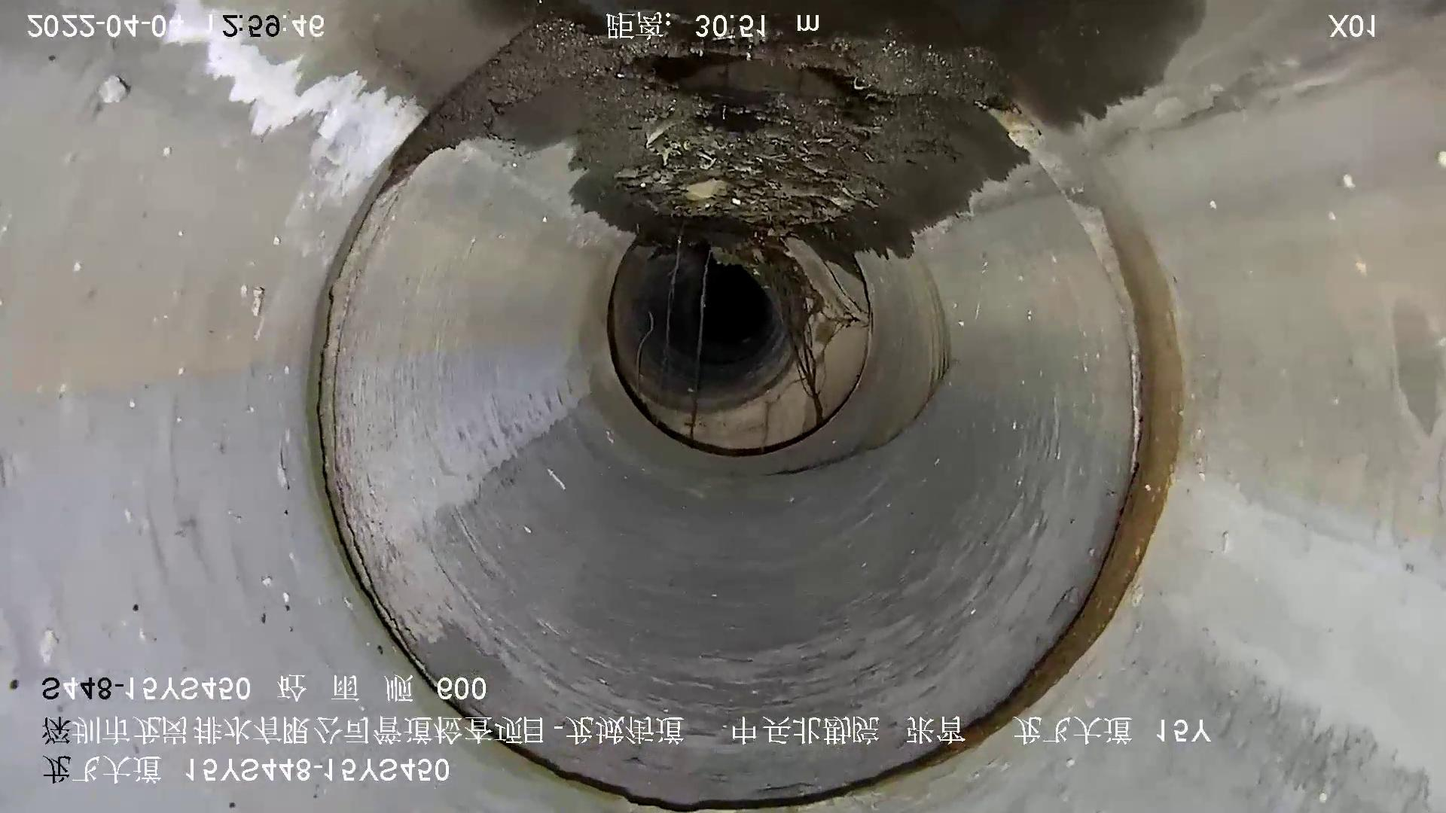CJ: (444, 18, 1002, 240)
CKTJ: (313, 50, 1194, 812), (599, 226, 882, 462)
SG: (622, 237, 864, 428)
